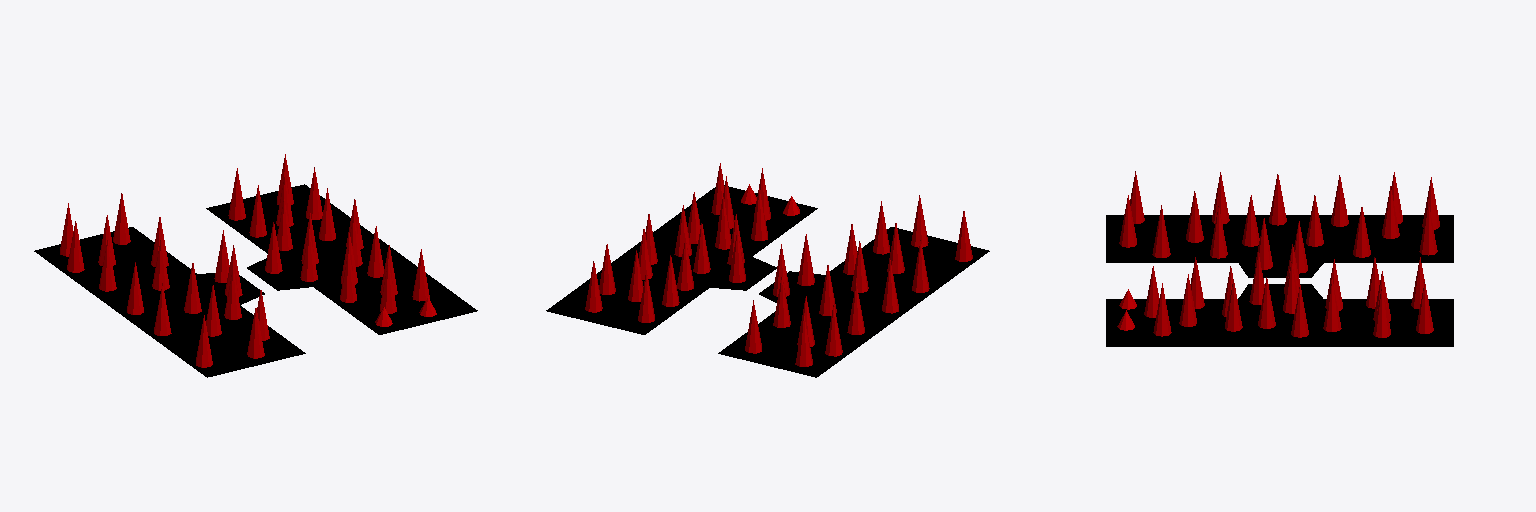
File: spikes.obj
3 views of the same model, side by side, from view 1: azimuth 30°, elevation 25°; view 2: azimuth 150°, elevation 25°; view 3: azimuth 270°, elevation 25° (orthographic).
Visible parts, largest first — view 1: Cube.010_Cube.003; view 2: Cube.010_Cube.003; view 3: Cube.010_Cube.003.
Boxes of the visible parts, x1=… form: Cube.010_Cube.003: x1=34, y1=184, x2=477, y2=377; Cube.010_Cube.003: x1=546, y1=185, x2=989, y2=377; Cube.010_Cube.003: x1=1106, y1=215, x2=1453, y2=346.
Size of the model in its own units: 33.96 by 6.03 by 37.63.